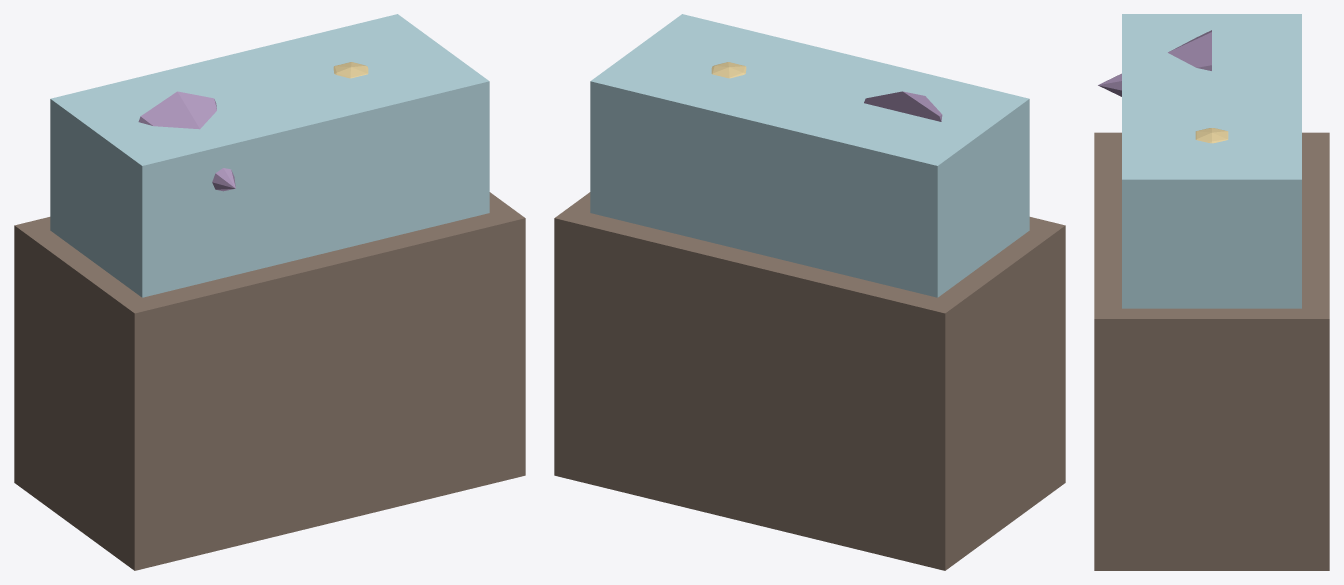
The model's file is gem_display.glb.
3 renders of one model, left to right at view 1: azimuth 30°, elevation 25°; view 2: azimuth 150°, elevation 25°; view 3: azimuth 270°, elevation 25°, orthographic. The views are drawn at different scales.
Visible parts, largest first — view 1: part_00, part_01, part_02; view 2: part_00, part_01, part_02; view 3: part_00, part_01, part_02, part_03.
Boxes of the visible parts, <box> form: part_00: <box>14,192,525,570</box>; part_01: <box>50,14,489,297</box>; part_02: <box>138,91,235,191</box>; part_00: <box>554,192,1065,570</box>; part_01: <box>590,14,1029,297</box>; part_02: <box>864,91,942,121</box>; part_00: <box>1094,132,1329,570</box>; part_01: <box>1122,14,1301,308</box>; part_02: <box>1098,30,1211,96</box>; part_03: <box>1195,128,1228,143</box>.
Size of the model in its own units: 1.35 by 1.36 by 0.72.
